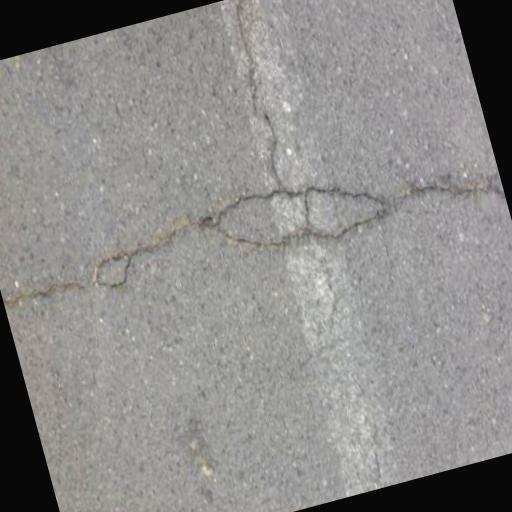spalling: (0, 168, 493, 331), (210, 0, 299, 189)
